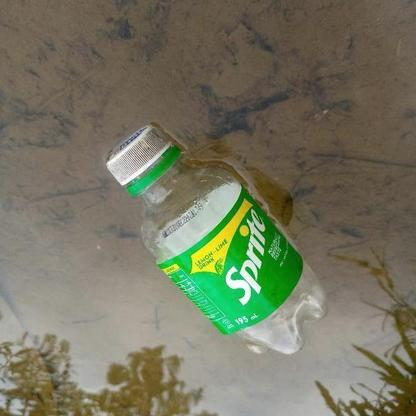plastic bottle: (105, 126, 327, 355)
